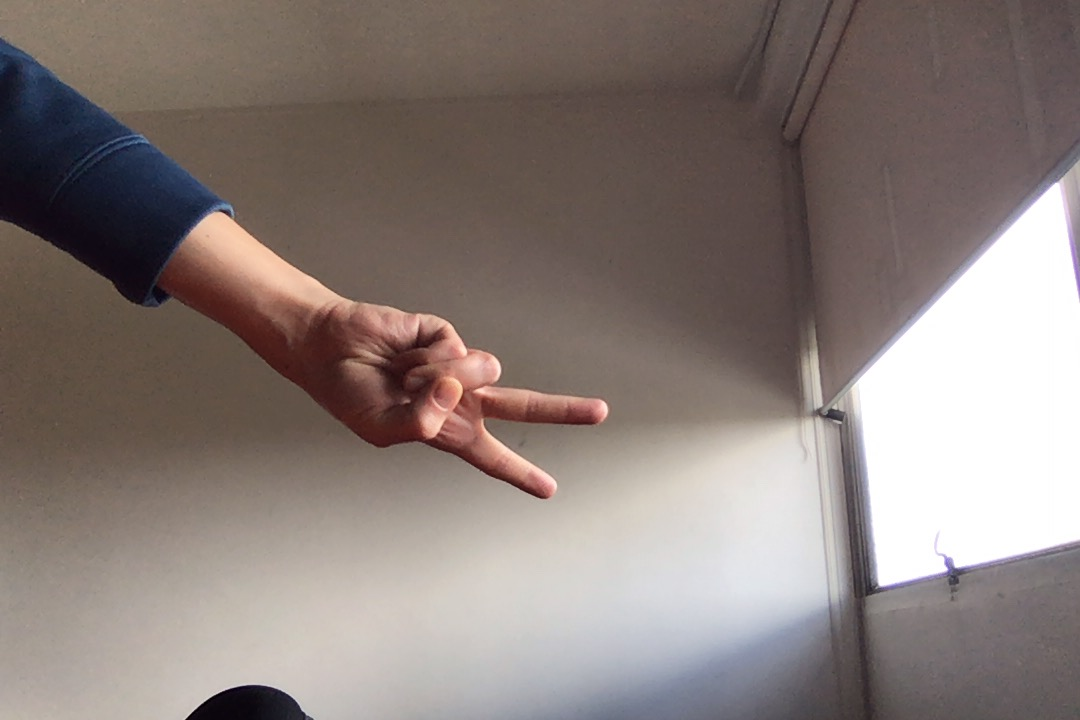peacesign: (303, 287, 619, 512)
